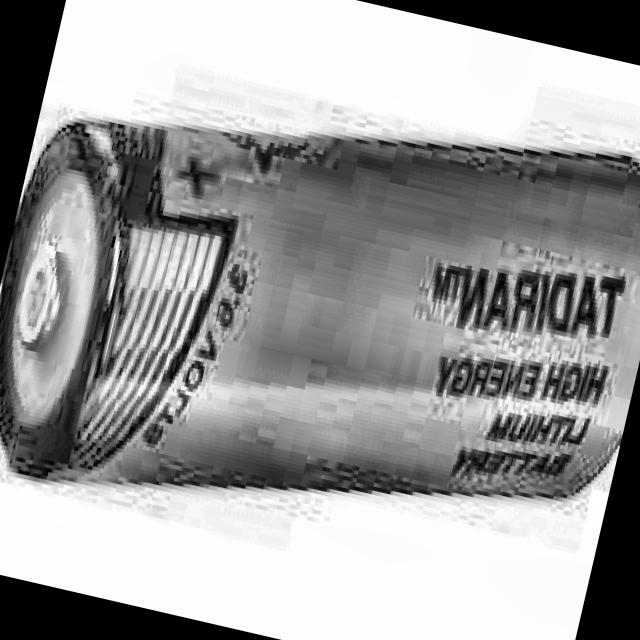Battery: (0, 29, 640, 596)
